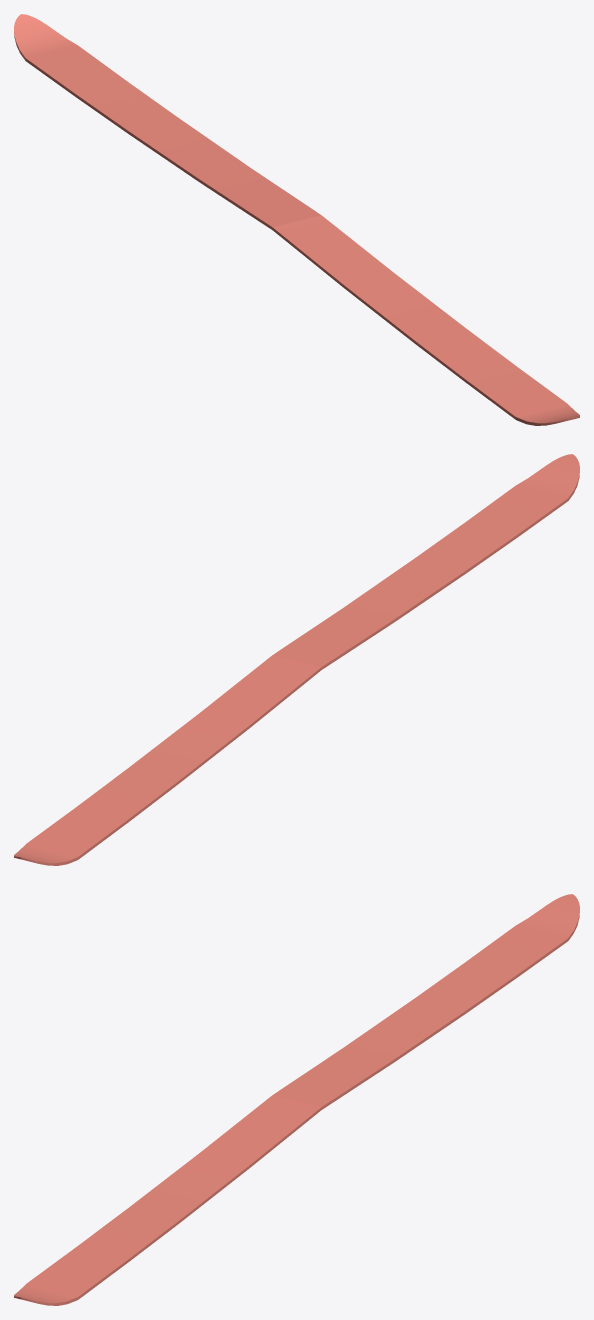
File: ski_a.glb
3 renders of one model, top to bottom at view 1: azimuth 30°, elevation 25°; view 2: azimuth 150°, elevation 25°; view 3: azimuth 330°, elevation 25°, orthographic.
Visible parts, largest first — view 1: Body1_Paint - Metallic (Red)_0; view 2: Body1_Paint - Metallic (Red)_0; view 3: Body1_Paint - Metallic (Red)_0.
Boxes of the visible parts, x1=… form: Body1_Paint - Metallic (Red)_0: x1=14, y1=14, x2=579, y2=425; Body1_Paint - Metallic (Red)_0: x1=14, y1=454, x2=579, y2=865; Body1_Paint - Metallic (Red)_0: x1=14, y1=894, x2=579, y2=1305.
Size of the model in its own units: 0.096 by 0.0322 by 1.75.
